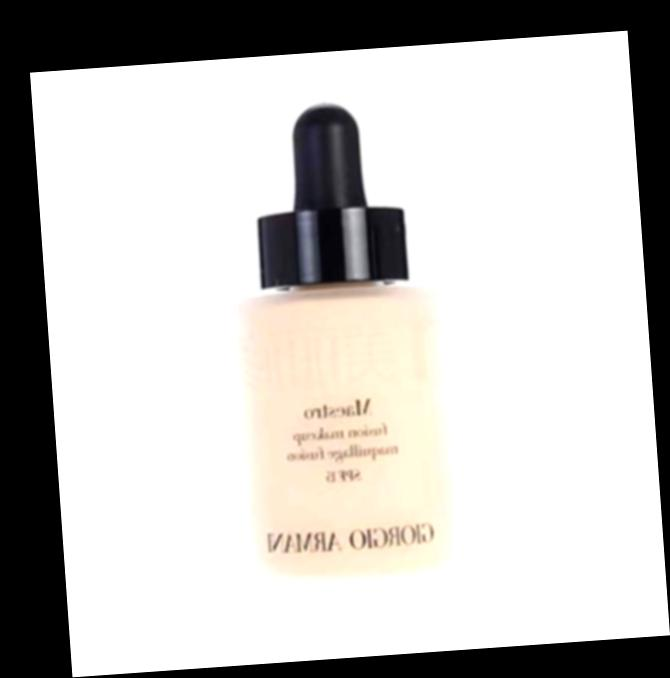cosmetic: (210, 93, 475, 612)
